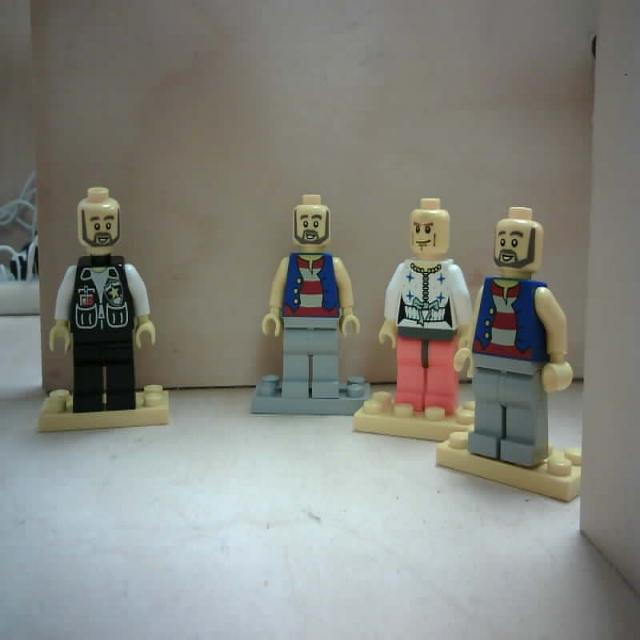Lego-People: (453, 204, 578, 473), (44, 180, 158, 420), (257, 190, 363, 402), (378, 195, 471, 421)
